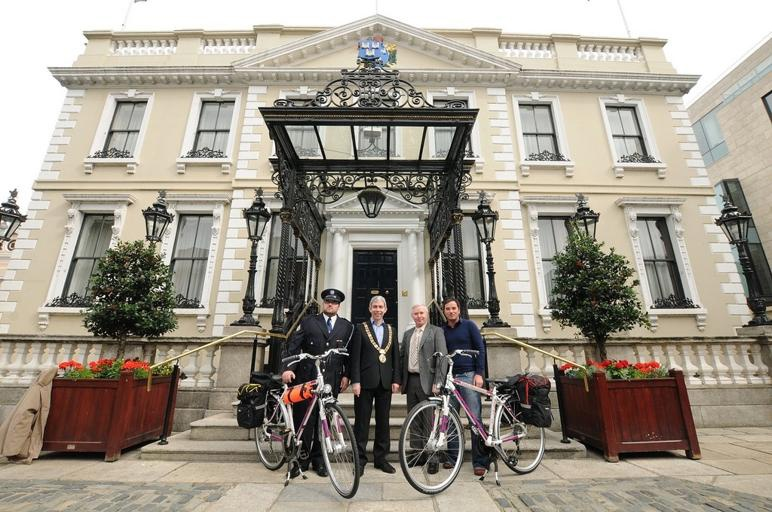non-vehicle: (396, 347, 547, 497), (249, 345, 365, 504)
